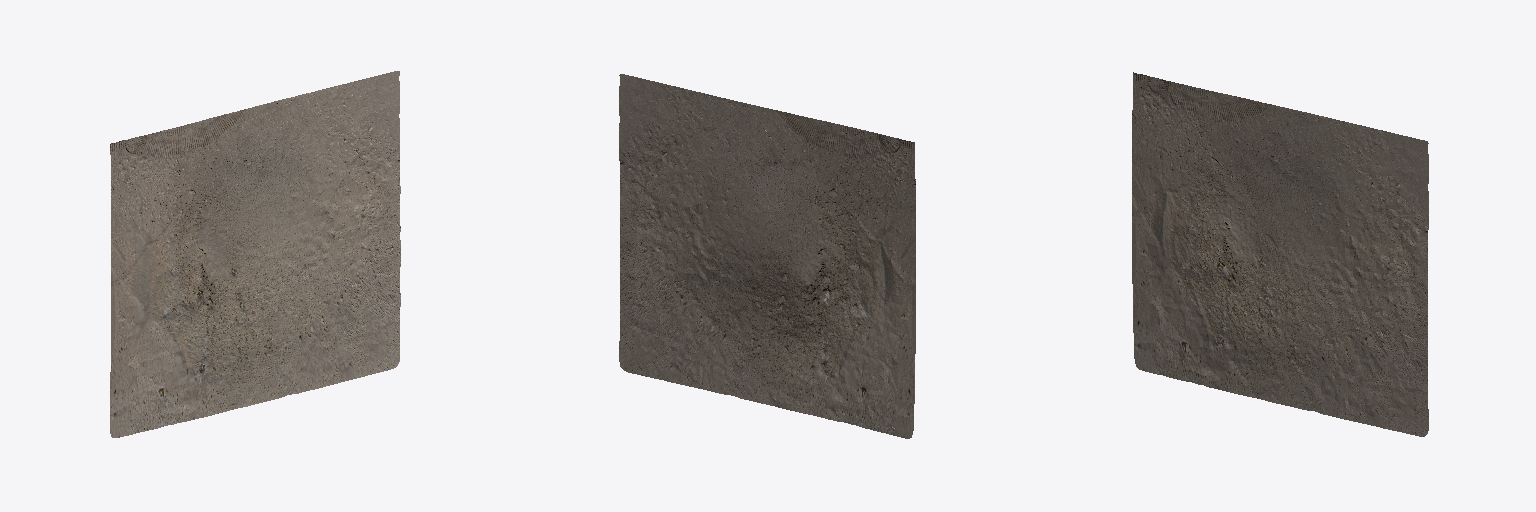
3 renders of one model, left to right at view 1: azimuth 30°, elevation 25°; view 2: azimuth 150°, elevation 25°; view 3: azimuth 330°, elevation 25°, orthographic.
Bounding box in the file's own units: 5.4 × 5.24 × 0.2261.
1 materials, 1 textured.